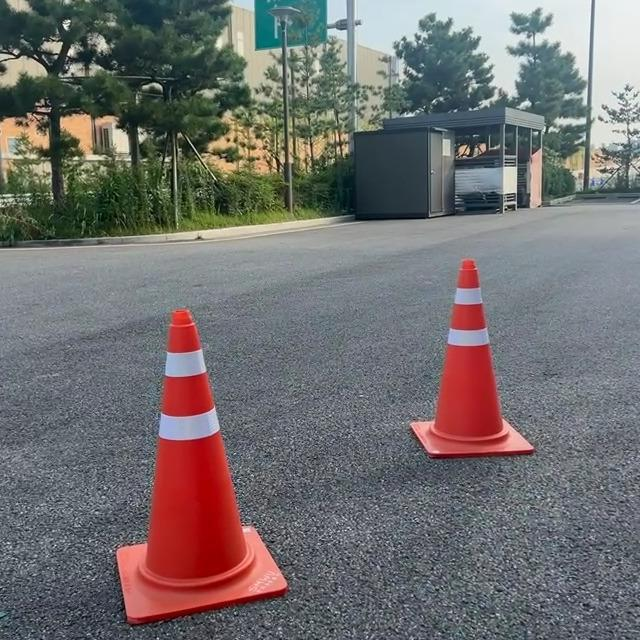fallen_object: (69, 279, 277, 640), (357, 250, 558, 524)
